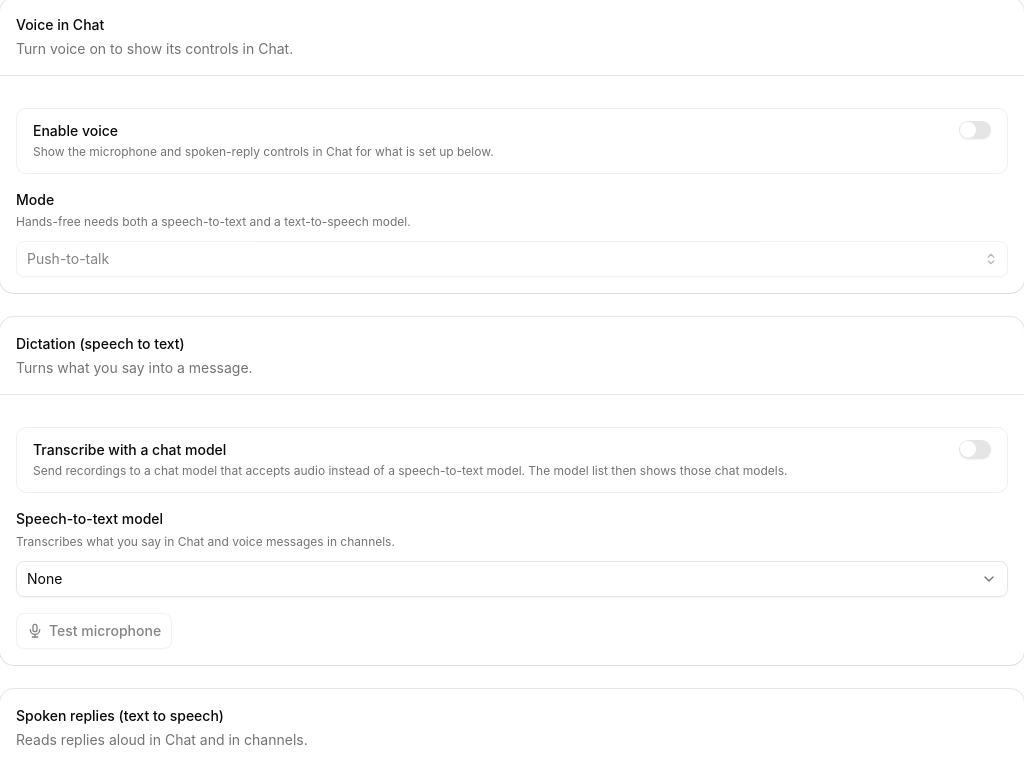
it: VoiceSettings › offers the provider-derived voice targets
The width and height of the screenshot is (1024, 761).
Click the dropdown named "Speech-to-text model" at x=45, y=578, box [16,560,1008,596]
(page scrolled)
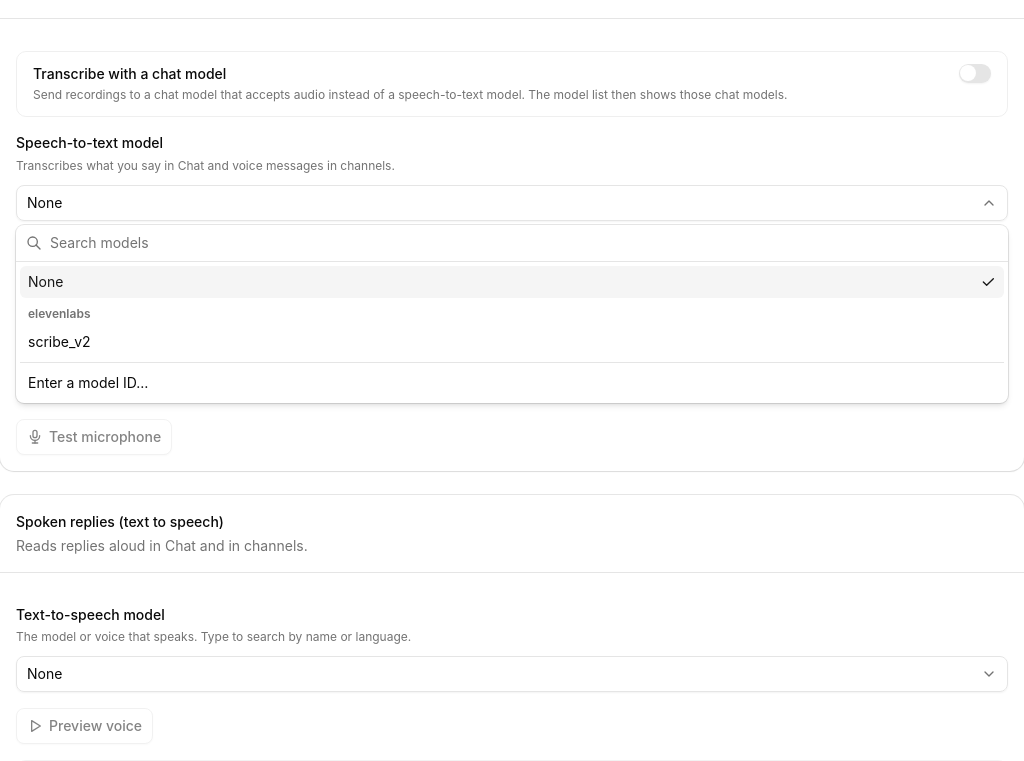
Check: the option "scribe_v2" is shown, box [28,332,91,350]
Check: the option "None" is shown, box [20,266,1004,298]
Check: the option "Enter a model ID…" is shown, box [28,374,148,390]
